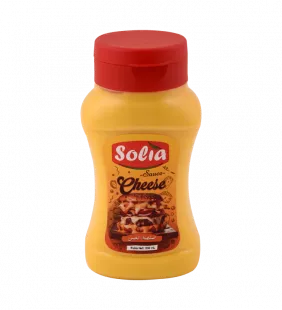SOLIA: (75, 20, 212, 291)
